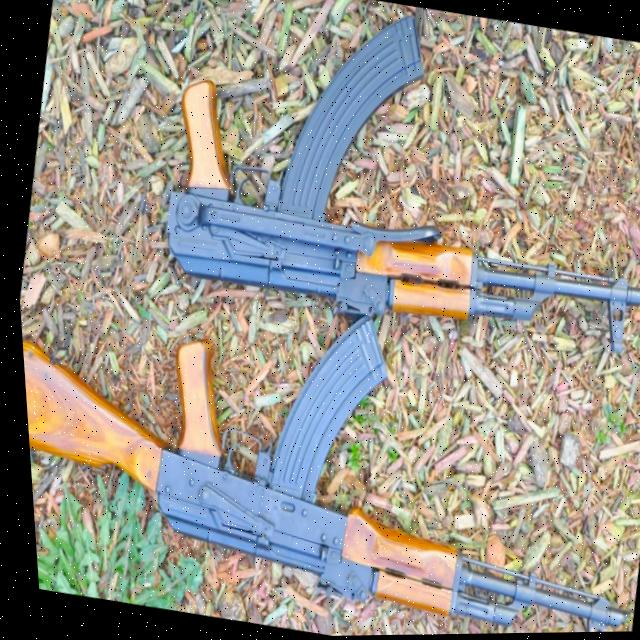firearm: (14, 256, 640, 640), (140, 0, 640, 359)
